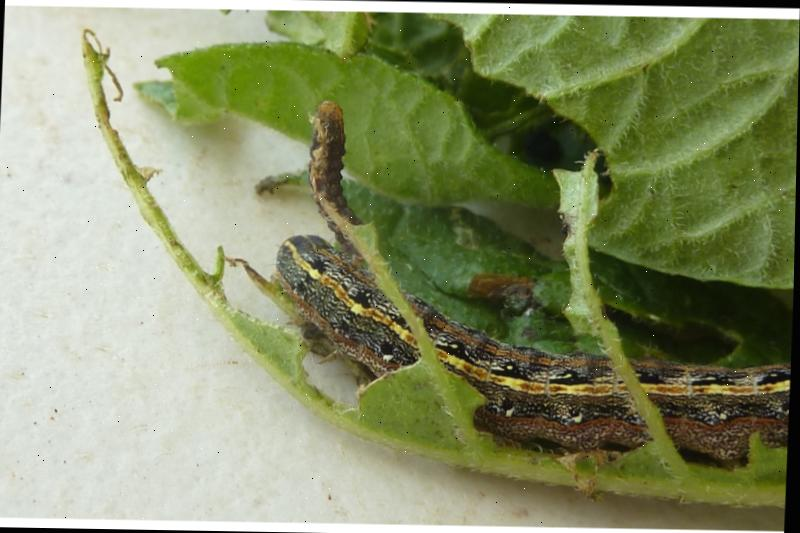fall-armyworm: (277, 233, 793, 473), (309, 99, 386, 267)
